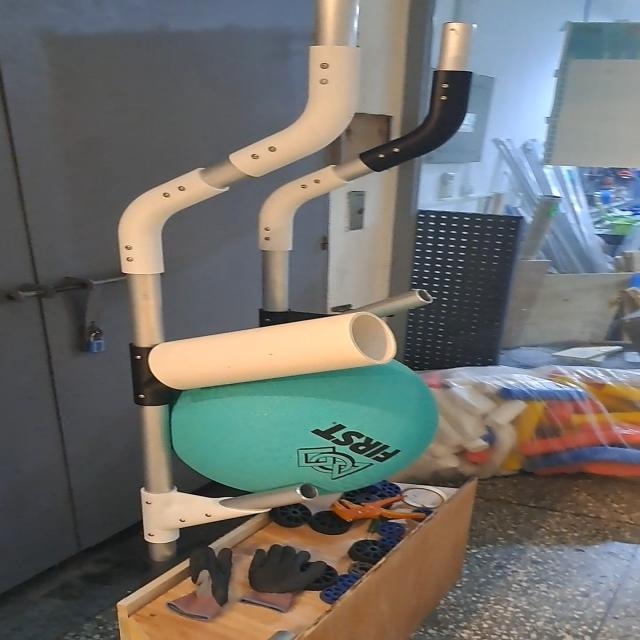ALGAE: (169, 349, 452, 499)
CORAL: (148, 314, 396, 391)
